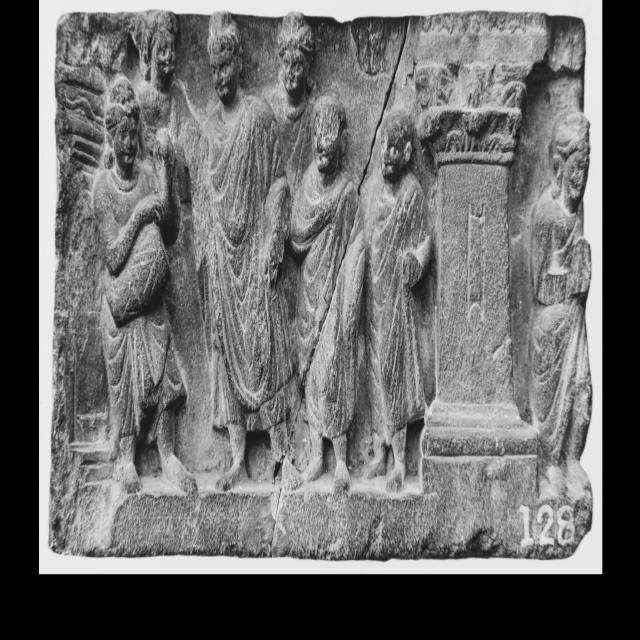buddha-standing: (204, 13, 292, 489)
